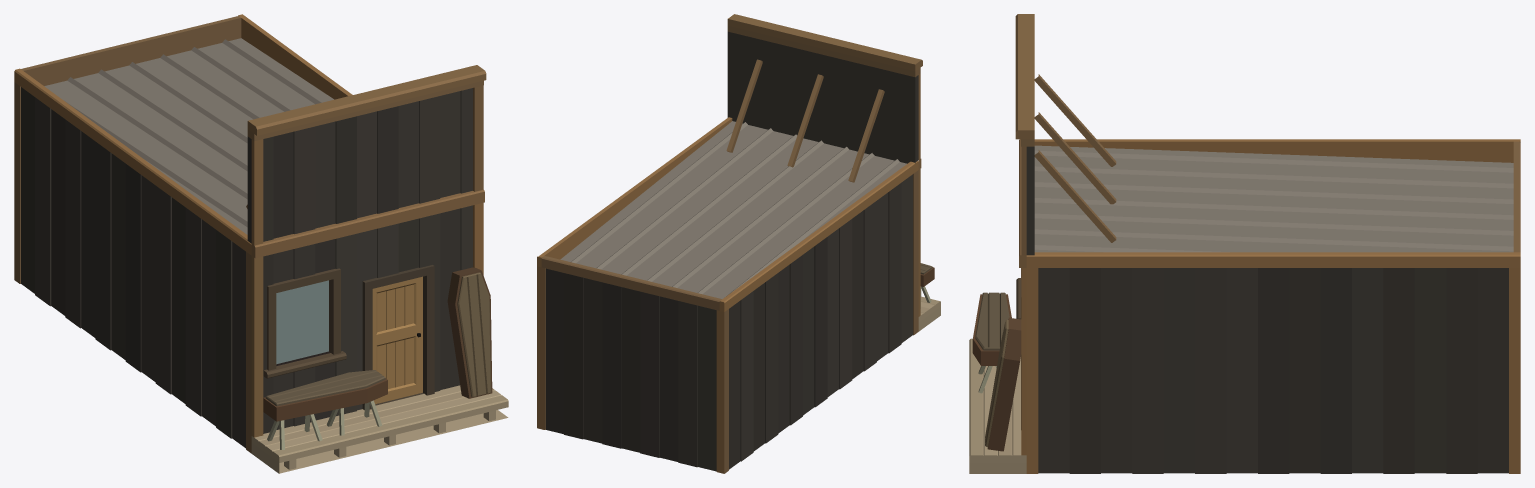
The model's file is pf-undertaker-s-3e1285.glb.
The picture shows the model from 3 angles, left to right: view 1: azimuth 30°, elevation 25°; view 2: azimuth 150°, elevation 25°; view 3: azimuth 270°, elevation 25°; orthographic projection. The views are drawn at different scales.
Visible parts, largest first — view 1: shop-mesh, door-mesh, coffin-mesh; view 2: shop-mesh; view 3: shop-mesh, coffin-mesh.
Boxes of the visible parts, x1,y1,x2,y2 form: shop-mesh: [14, 14, 508, 473]; door-mesh: [372, 276, 422, 404]; coffin-mesh: [447, 267, 492, 398]; shop-mesh: [537, 14, 940, 473]; shop-mesh: [969, 14, 1520, 473]; coffin-mesh: [985, 317, 1021, 451].
Bounding box in the file's own units: 4 × 5.5 × 8.
